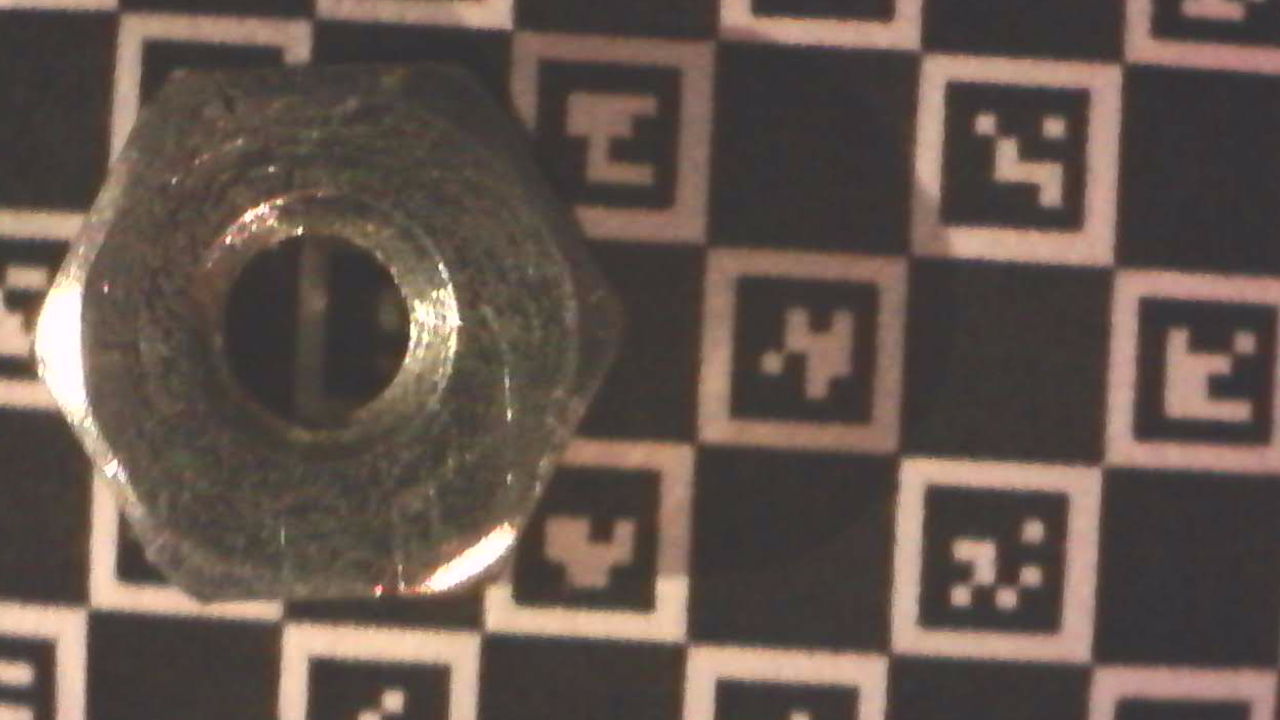Bolt: (27, 53, 630, 603)
